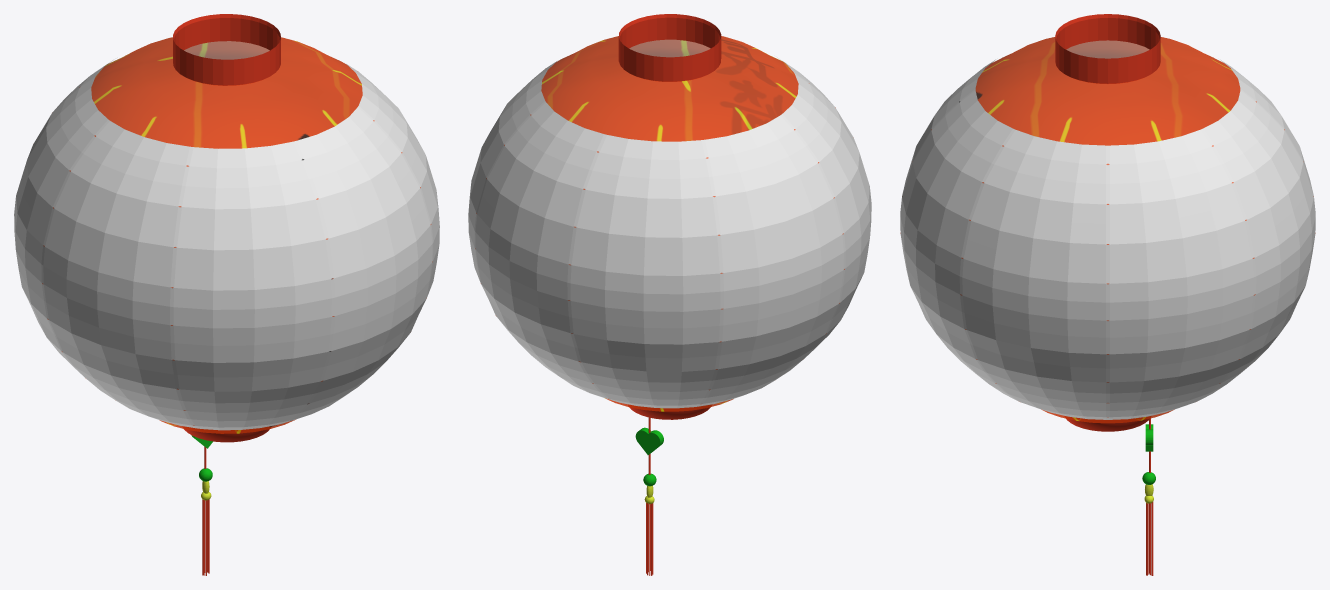
Rendered from asset.glb.
3 views of the same model, side by side, from view 1: azimuth 30°, elevation 25°; view 2: azimuth 150°, elevation 25°; view 3: azimuth 270°, elevation 25° (orthographic). The views are drawn at different scales.
Parts seen in each view (by area): view 1: 球.002, 球, うえ, 骨, した; view 2: 球.002, 球, うえ, 骨, した, 立方体; view 3: 球.002, 球, うえ, 骨, した.
Part boxes in pixels (x1,y1,x2,y2): 球.002: [14, 60, 439, 430]; 球: [42, 37, 432, 433]; うえ: [173, 14, 280, 85]; 骨: [41, 64, 433, 428]; した: [184, 429, 269, 442]; 球.002: [468, 57, 871, 408]; 球: [475, 36, 844, 411]; うえ: [618, 14, 721, 81]; 骨: [474, 62, 845, 406]; した: [629, 407, 710, 419]; 立方体: [635, 427, 663, 454]; 球.002: [900, 59, 1315, 419]; 球: [900, 37, 1315, 423]; うえ: [1055, 14, 1160, 83]; 骨: [900, 89, 1315, 419]; した: [1066, 418, 1149, 431].
Size of the model in its own units: 4.84 by 6.94 by 4.84.
4 materials, 1 textured.
